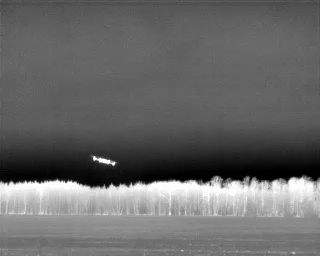DRONE: (87, 151, 121, 171)
